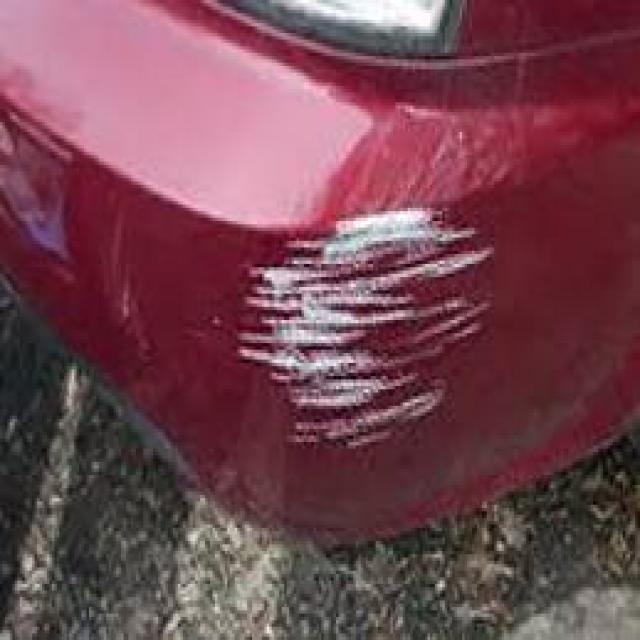scratch: (225, 208, 509, 466)
